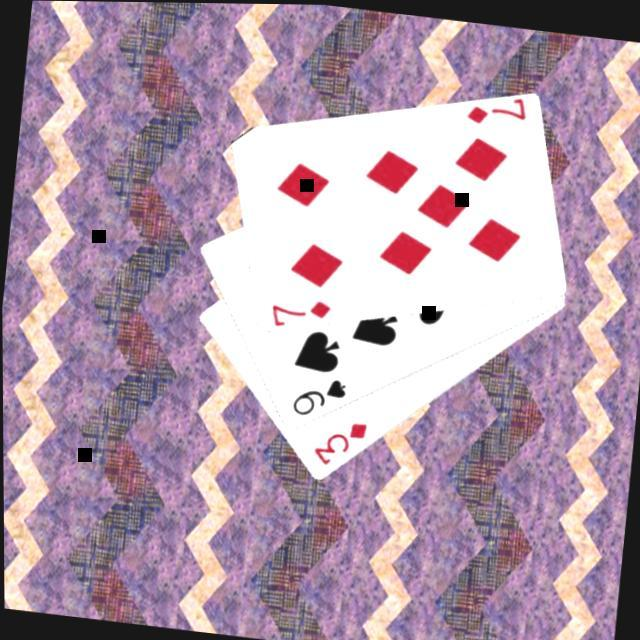3D: (306, 414, 368, 474)
7D: (460, 90, 528, 132), (265, 291, 332, 333)
9S: (286, 371, 348, 424)
